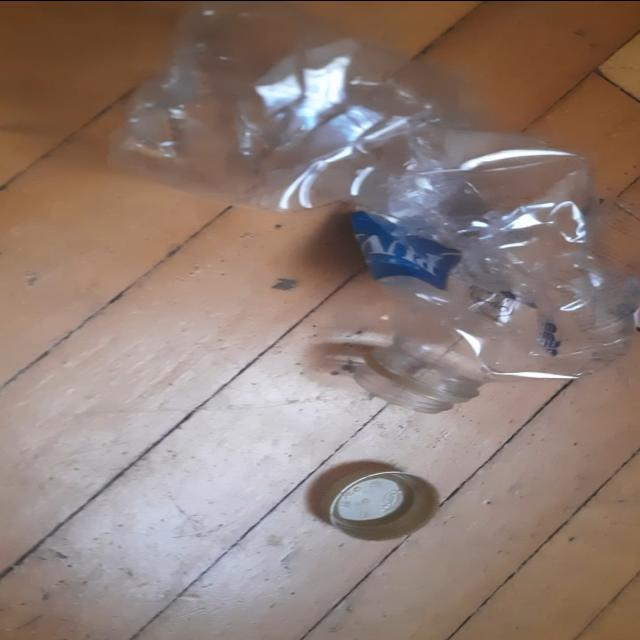Plastic: (106, 3, 636, 405)
